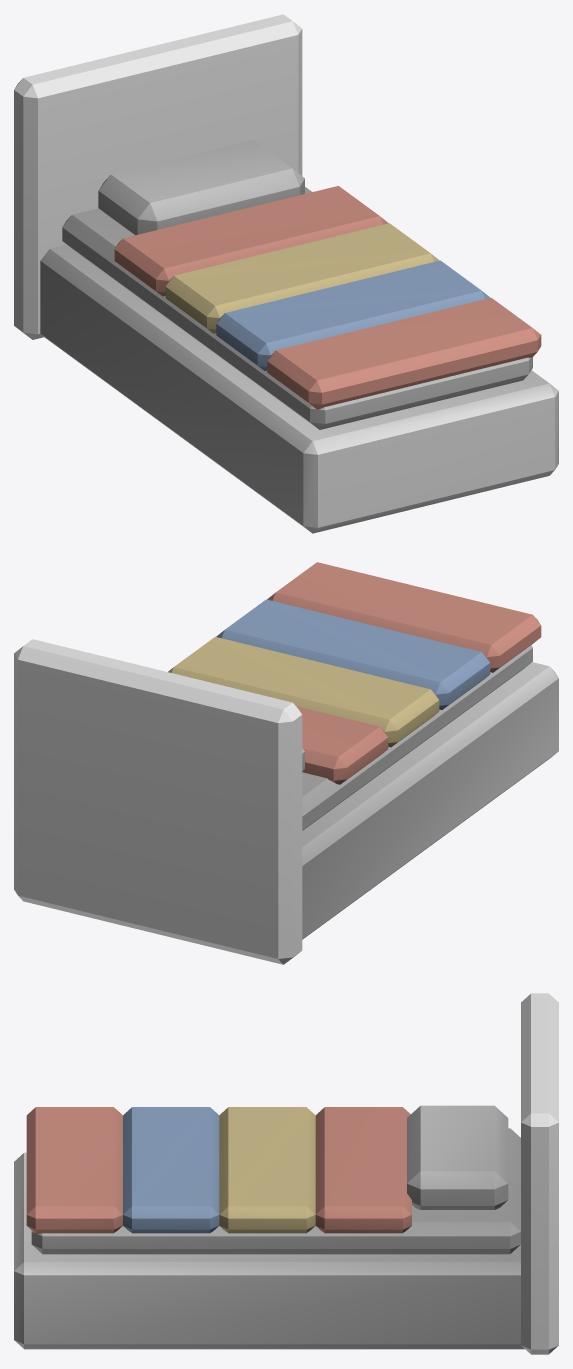
File: bed_home.glb
3 views of the same model, one above another, from view 1: azimuth 30°, elevation 25°; view 2: azimuth 150°, elevation 25°; view 3: azimuth 270°, elevation 25° (orthographic). The views are drawn at different scales.
Visible parts, largest first — view 1: bed_frame; view 2: bed_frame; view 3: bed_frame.
Boxes of the visible parts, bbox=[...] form: bed_frame: bbox=[14, 14, 558, 533]; bed_frame: bbox=[14, 562, 558, 964]; bed_frame: bbox=[14, 993, 558, 1354].
Size of the model in its own units: 1.2 by 1.05 by 2.15.
